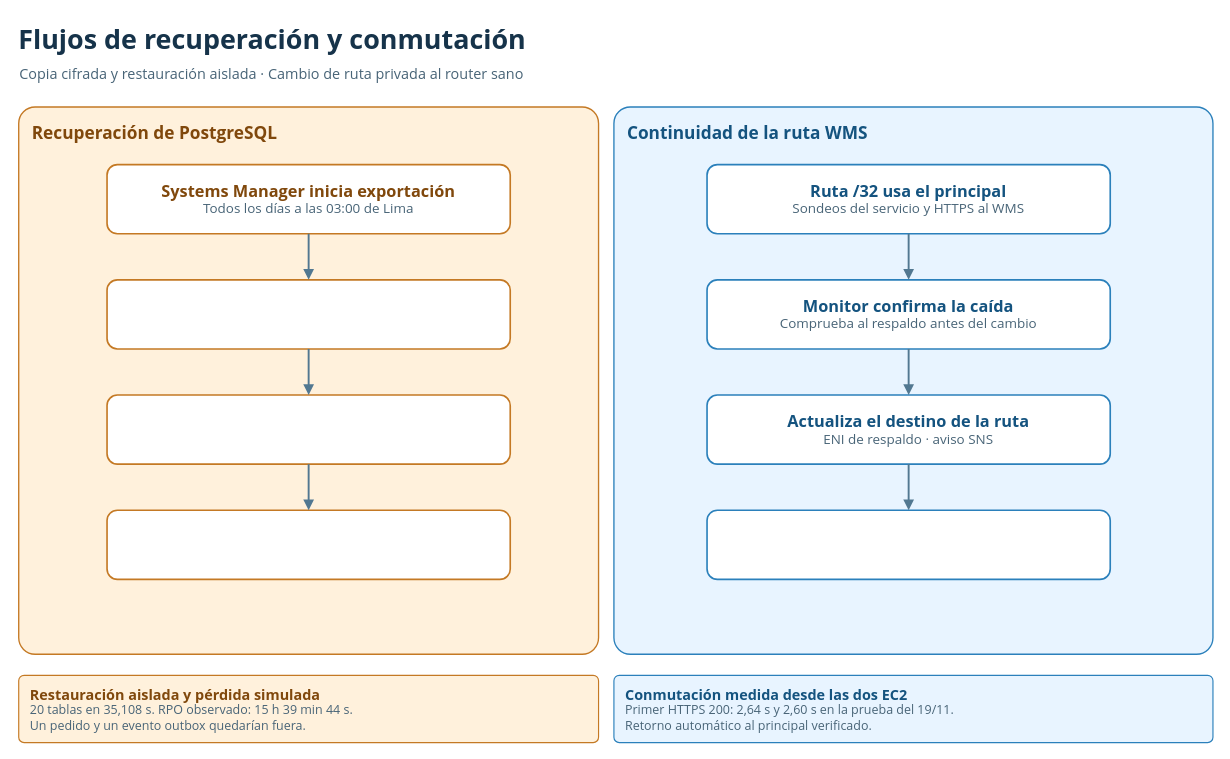
The diagram is 1230 pixels wide and 759 high, and some of its shapes have lost their labels. Here are the shapes that lost their labels. From the top down, the centre of each, then its label:
(x=308, y=314): EC2 ejecuta pg_dump Cifra el archivo y calcula las huellas
(x=308, y=429): Azure Blob recibe la copia cifrada Manifiesto privado en S3
(x=308, y=544): Restauración aislada Valida huellas, descifra y comprueba PostgreSQL
(x=908, y=544): El principal vuelve a estar sano Valida recuperación y restablece ruta y aviso
